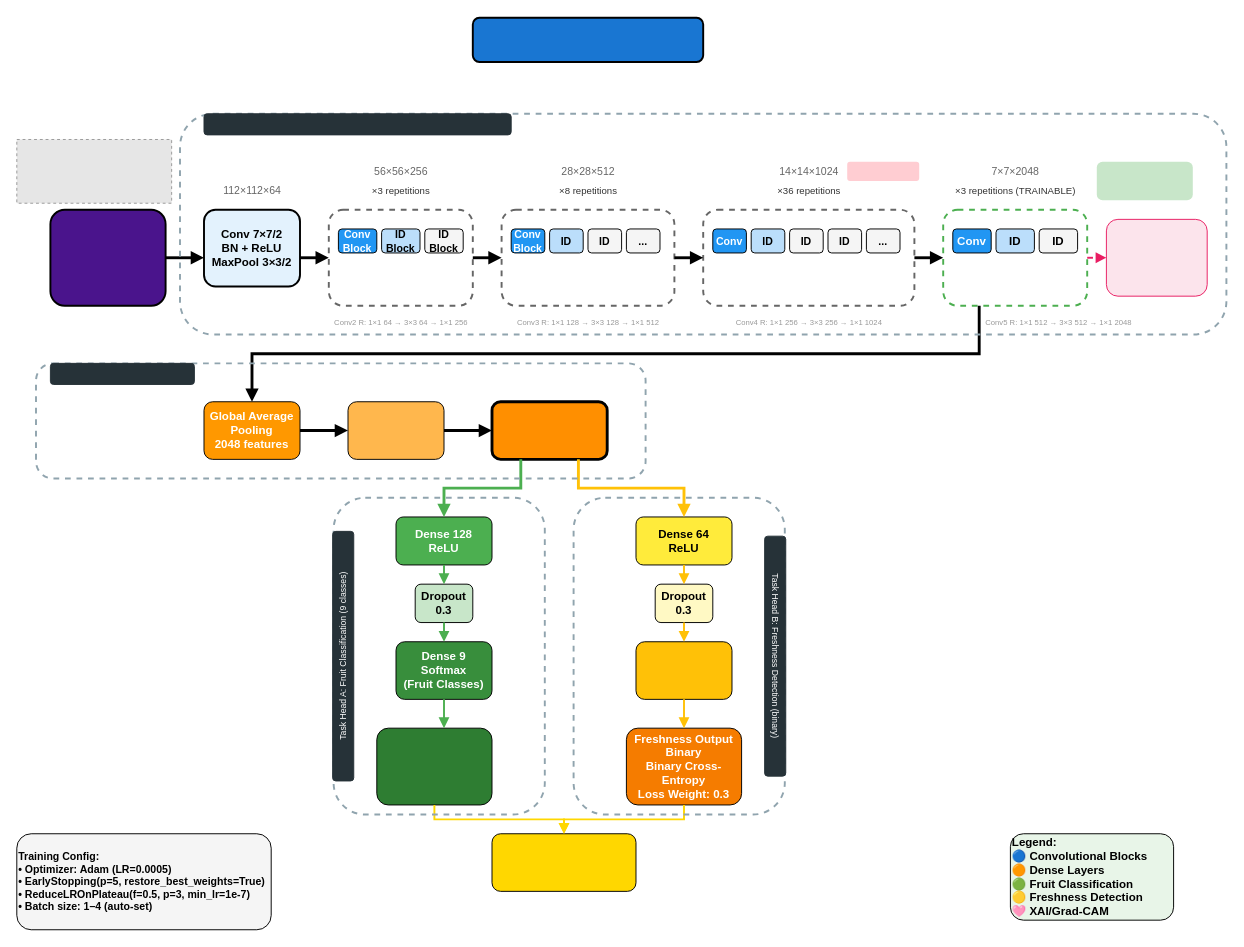
Image size: 1244x947. Some labels were removed from this diagram. Grey dashed boxes stand in for pictures. The centre of each missing label's shape, as x and y in pixels:
Backbone: ResNet152V2 (ImageNet, last 30 layers trainable): [357,124]
Combined Test Accuracy 0.9845 (Best Performance): [563,862]
Dense 1 Sigmoid (Fresh/Rotten): [683,670]
Dense 512 ReLU BN + Dropout 0.5: [395,430]
Final conv layer (7×7×2048) e.g., conv5_block3_out Grad-CAM Target: [1156,257]
Fruit Output 9 Classes Categorical Cross-Entropy Loss Weight: 0.7: [434,766]
Input Image 224×224×3 Fresh/Rotten Fruit: [107,257]
ResNet152V2 Multi-Task Model: [587,39]
Shared Dense 256 ReLU (shared_256_res): [549,430]
Shared Trunk / Head: [121,373]
❄️ Frozen Layers: [883,170]
🔥 Last 30 Keras layers (mainly conv5_x + heads) Trainable: [1144,180]
